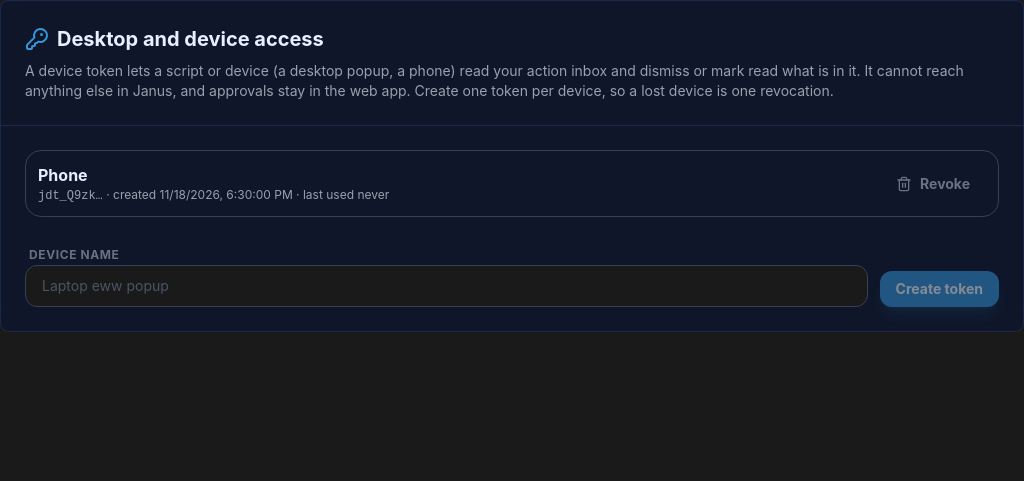
DeviceAccessSettings › shows a new token once and clears it when the list changes
Type "Desktop" into the field labelled "Device name". click: coordinates (446, 286)
box: left=25, top=265, right=868, bottom=307
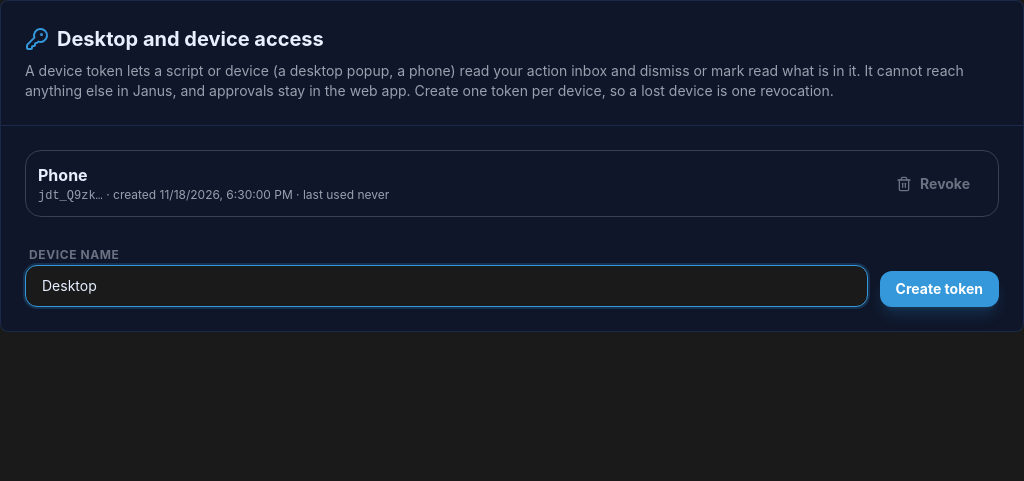
Click the button "Create token". click: coordinates (939, 289)
box: left=880, top=271, right=999, bottom=307
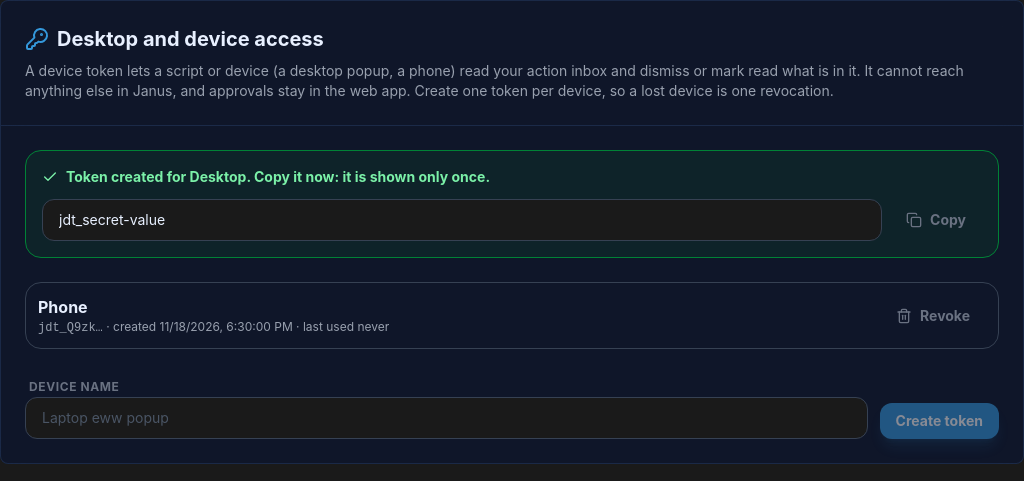
Check: the field showing "jdt_secret-value" is shown, box left=42, top=199, right=882, bottom=241
Check: the field labelled "Device name" is empty, box left=25, top=397, right=868, bottom=439
